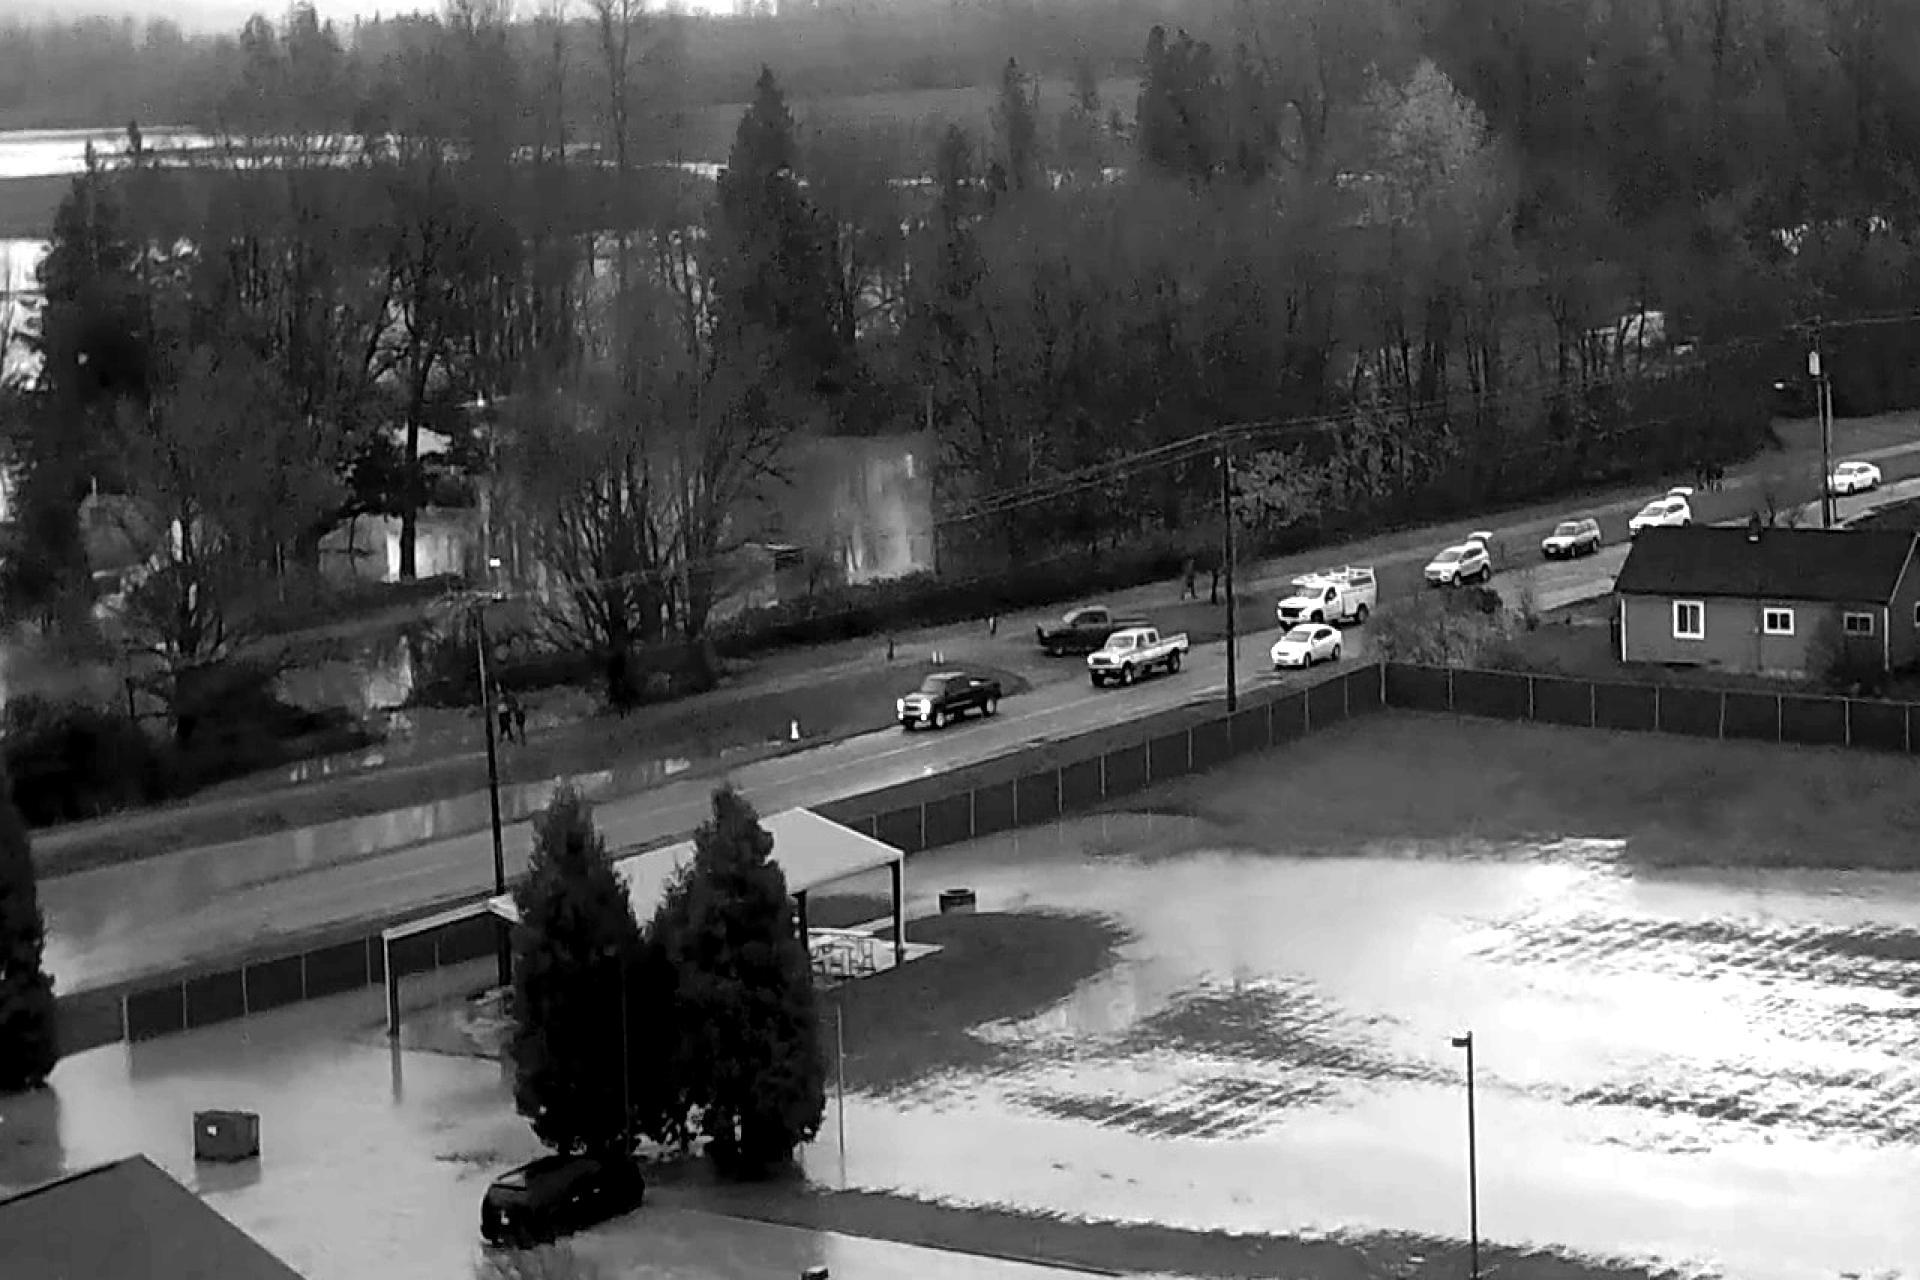House: (0, 1109, 600, 1280), (1617, 519, 1920, 679)
Vehicle: (467, 1151, 644, 1253), (891, 669, 1003, 733), (1084, 629, 1189, 689), (1269, 623, 1343, 671)
